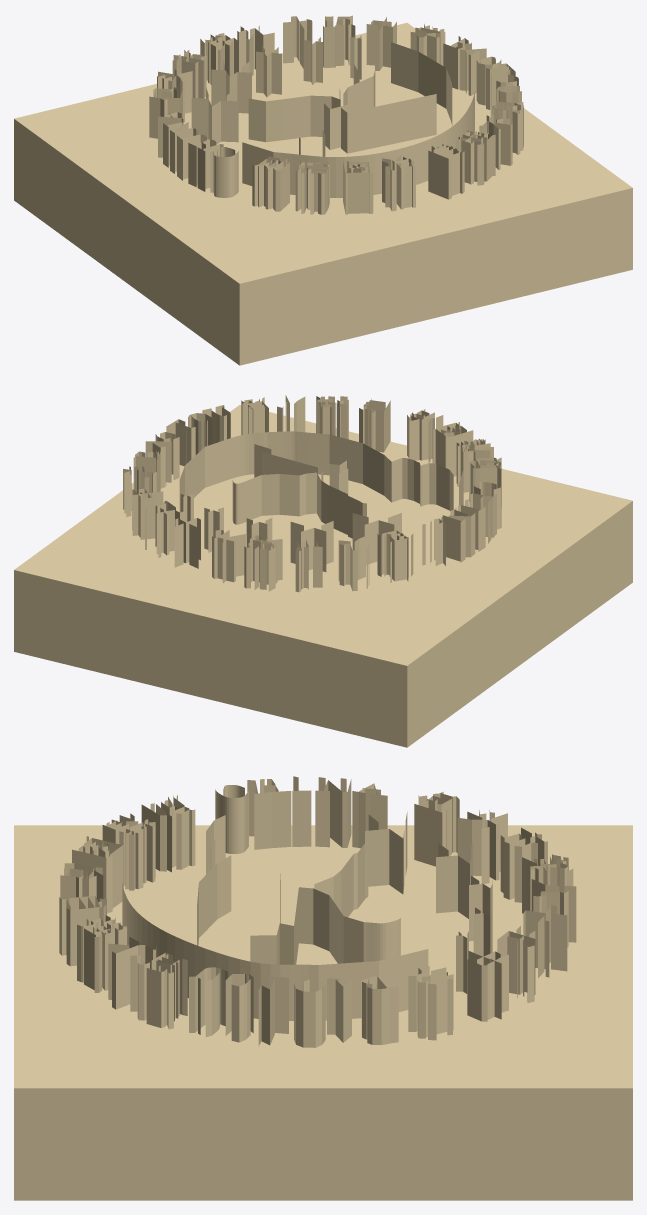
Rendered from school-badge-gold.glb.
3 renders of one model, top to bottom at view 1: azimuth 30°, elevation 25°; view 2: azimuth 150°, elevation 25°; view 3: azimuth 270°, elevation 25°, orthographic. The views are drawn at different scales.
Visible parts, largest first — view 1: Box001, Line006, Line054, Line001, Line055, Line063, Line002, Line029, Line030, Line066, Line003, Line020 (+25 smaller); view 2: Box001, Line054, Line006, Line019, Line032, Line002, Line055, Line063, Line001, Line012, Line020, Line023 (+26 smaller); view 3: Box001, Line054, Line006, Line030, Line012, Line001, Line032, Line020, Line041, Line068, Line002, Line014 (+33 smaller).
Part boxes in pixels (box(x1,y1,x2,y2)): Box001: box(14, 23, 632, 365); Line006: box(248, 63, 436, 153); Line054: box(242, 42, 474, 197); Line001: box(191, 87, 238, 144); Line055: box(428, 144, 464, 199); Line063: box(343, 161, 373, 214); Line002: box(211, 61, 251, 113); Line029: box(210, 147, 238, 197); Line030: box(188, 136, 223, 191); Line066: box(265, 158, 289, 211); Line003: box(256, 46, 281, 97); Line020: box(283, 16, 312, 68); Box001: box(14, 405, 632, 747); Line054: box(179, 431, 463, 512); Line006: box(232, 444, 366, 538); Line019: box(212, 529, 245, 582); Line032: box(442, 508, 475, 562); Line002: box(290, 521, 333, 572); Line055: box(359, 398, 390, 452); Line063: box(432, 422, 473, 476); Line001: box(352, 513, 401, 564); Line012: box(338, 536, 365, 591); Line020: box(174, 518, 200, 568); Line023: box(132, 491, 163, 539); Box001: box(14, 825, 632, 1200); Line054: box(122, 815, 428, 1020); Line006: box(250, 841, 400, 964); Line030: box(247, 779, 291, 849); Line012: box(457, 811, 507, 883); Line001: box(365, 812, 407, 894); Line032: box(315, 777, 351, 847); Line020: box(523, 905, 567, 977); Line041: box(189, 967, 227, 1037); Line068: box(119, 813, 155, 890); Line002: box(436, 840, 473, 918); Line014: box(500, 827, 547, 902).
Bounding box in the file's own units: 0.0503 × 0.0171 × 0.05.
